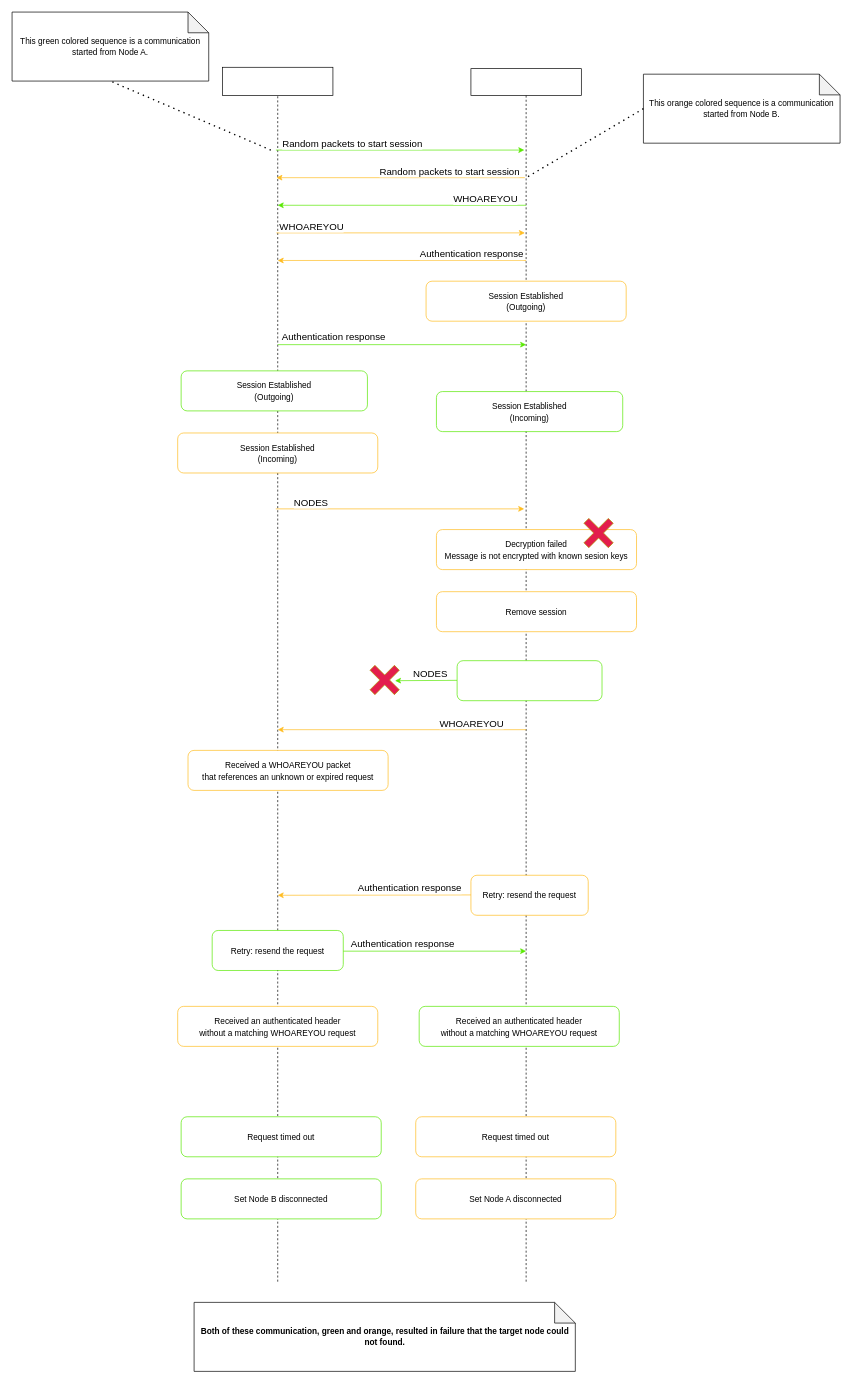
Some shapes in this 852 by 1383 pixel diagram are drawn without their labels. The centre of each missing label's shape, as x and y in pixels:
Node A: pixel 277 81
Node B: pixel 525 82
Session is not established Dropping response: pixel 529 680
